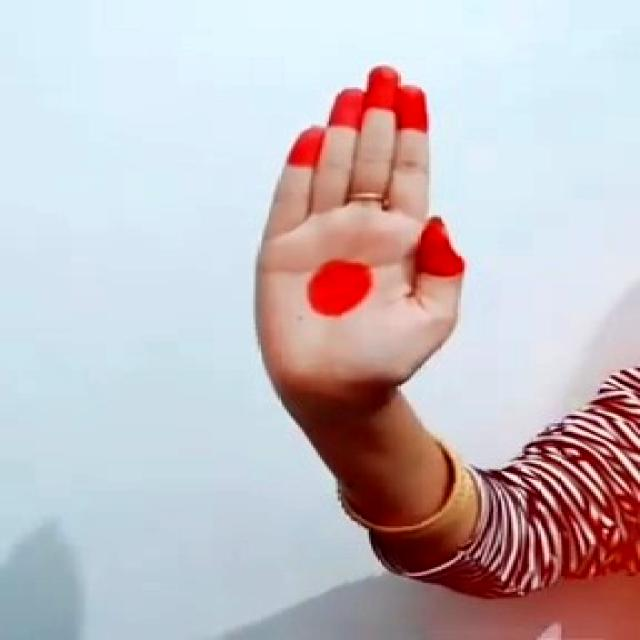Pataka: (226, 66, 497, 386)
bangle: (299, 437, 508, 542)
